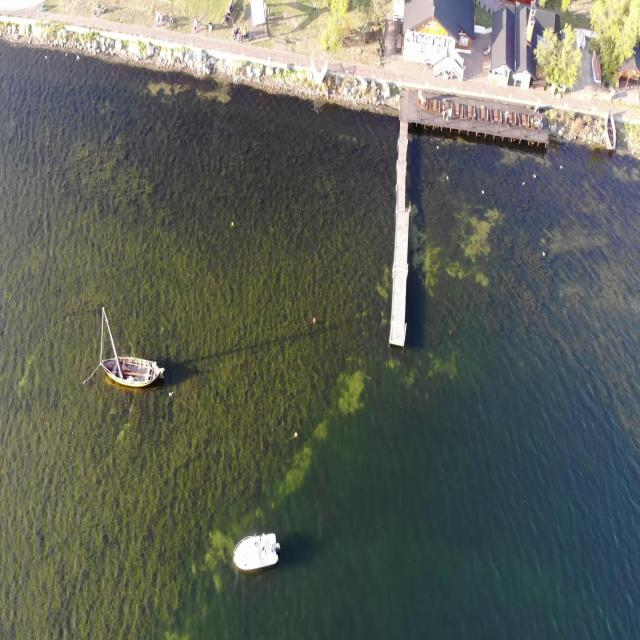boat: (231, 529, 281, 574)
bouy: (312, 315, 316, 325), (230, 220, 234, 229), (294, 432, 298, 438)
sailboat: (98, 304, 166, 396)
